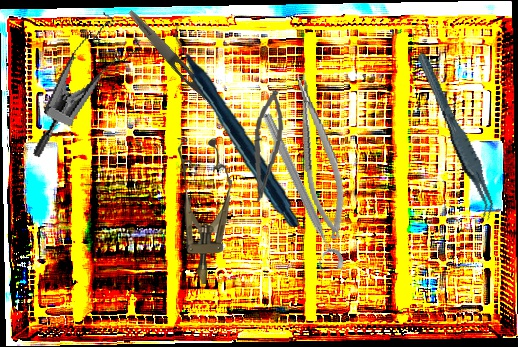Dressing Forceps: (124, 7, 240, 132)
Fixation Ring: (249, 110, 348, 279)
Handpiece: (162, 23, 313, 228)
Micro Scissor: (248, 87, 287, 206)
Needle Holder: (287, 70, 353, 242)
Speculum: (30, 3, 148, 177), (175, 138, 232, 284)
Tissue Forceps: (415, 45, 499, 228)
